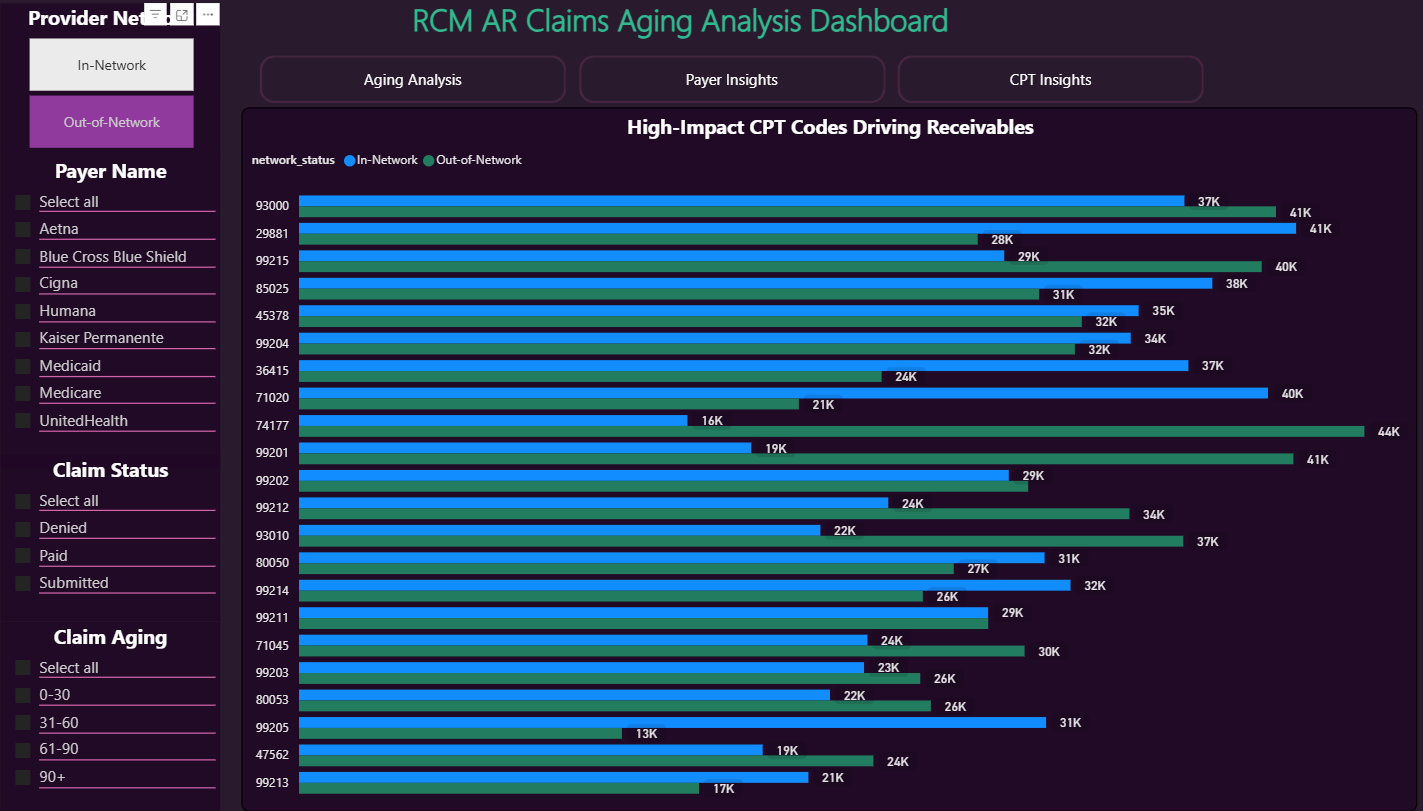

Layout of this report page (visuals, bound fields, positions):
{"tool":"powerbi","page":{"name":"CPT Insights","canvas":[1280,720],"ordinal":2},"visuals":[{"type":"slicer","title":"Payer Name","fields":{"Values":["ar_aging_project_data.payer_name"]},"box":[7.1,143.6,193.3,274],"z":0},{"type":"slicer","title":"Claim Aging","fields":{"Values":["ar_aging_project_data.aging_bucket"]},"box":[7.1,553.3,193.3,166.7],"z":1000},{"type":"slicer","title":"Claim Status","fields":{"Values":["ar_aging_project_data.claim_status_filled"]},"box":[7.1,407,193.3,146.3],"z":2000},{"type":"slicer","title":"Provider Network","fields":{"Values":["ar_aging_project_data.network_status"]},"box":[7.1,9.8,193.3,133.9],"z":3000},{"type":"textbox","box":[208.4,0,792.7,55.9],"z":4000},{"type":"clusteredBarChart","title":"High-Impact CPT Codes Driving Receivables","fields":{"Y":["Sum(ar_aging_project_data.balance_amount)"],"Category":["ar_aging_project_data.CPT_code"],"Series":["ar_aging_project_data.network_status"]},"box":[219,101.1,1032.1,618.9],"z":5000},{"type":"pageNavigator","box":[235,55,830.8,43.4],"z":6000}]}

Visuals, with their boxes on the page's 1280x720 design canvas (x1, y1, x2, y2). These are canvas units, not pixel positions in the 1423x811 screenshot, which may show the page scaled, cropped or inside an application window:
"Payer Name" slicer: (7, 144, 200, 418)
"Claim Aging" slicer: (7, 553, 200, 720)
"Claim Status" slicer: (7, 407, 200, 553)
"Provider Network" slicer: (7, 10, 200, 144)
textbox: (208, 0, 1001, 56)
"High-Impact CPT Codes Driving Receivables" clusteredBarChart: (219, 101, 1251, 720)
pageNavigator: (235, 55, 1066, 98)
